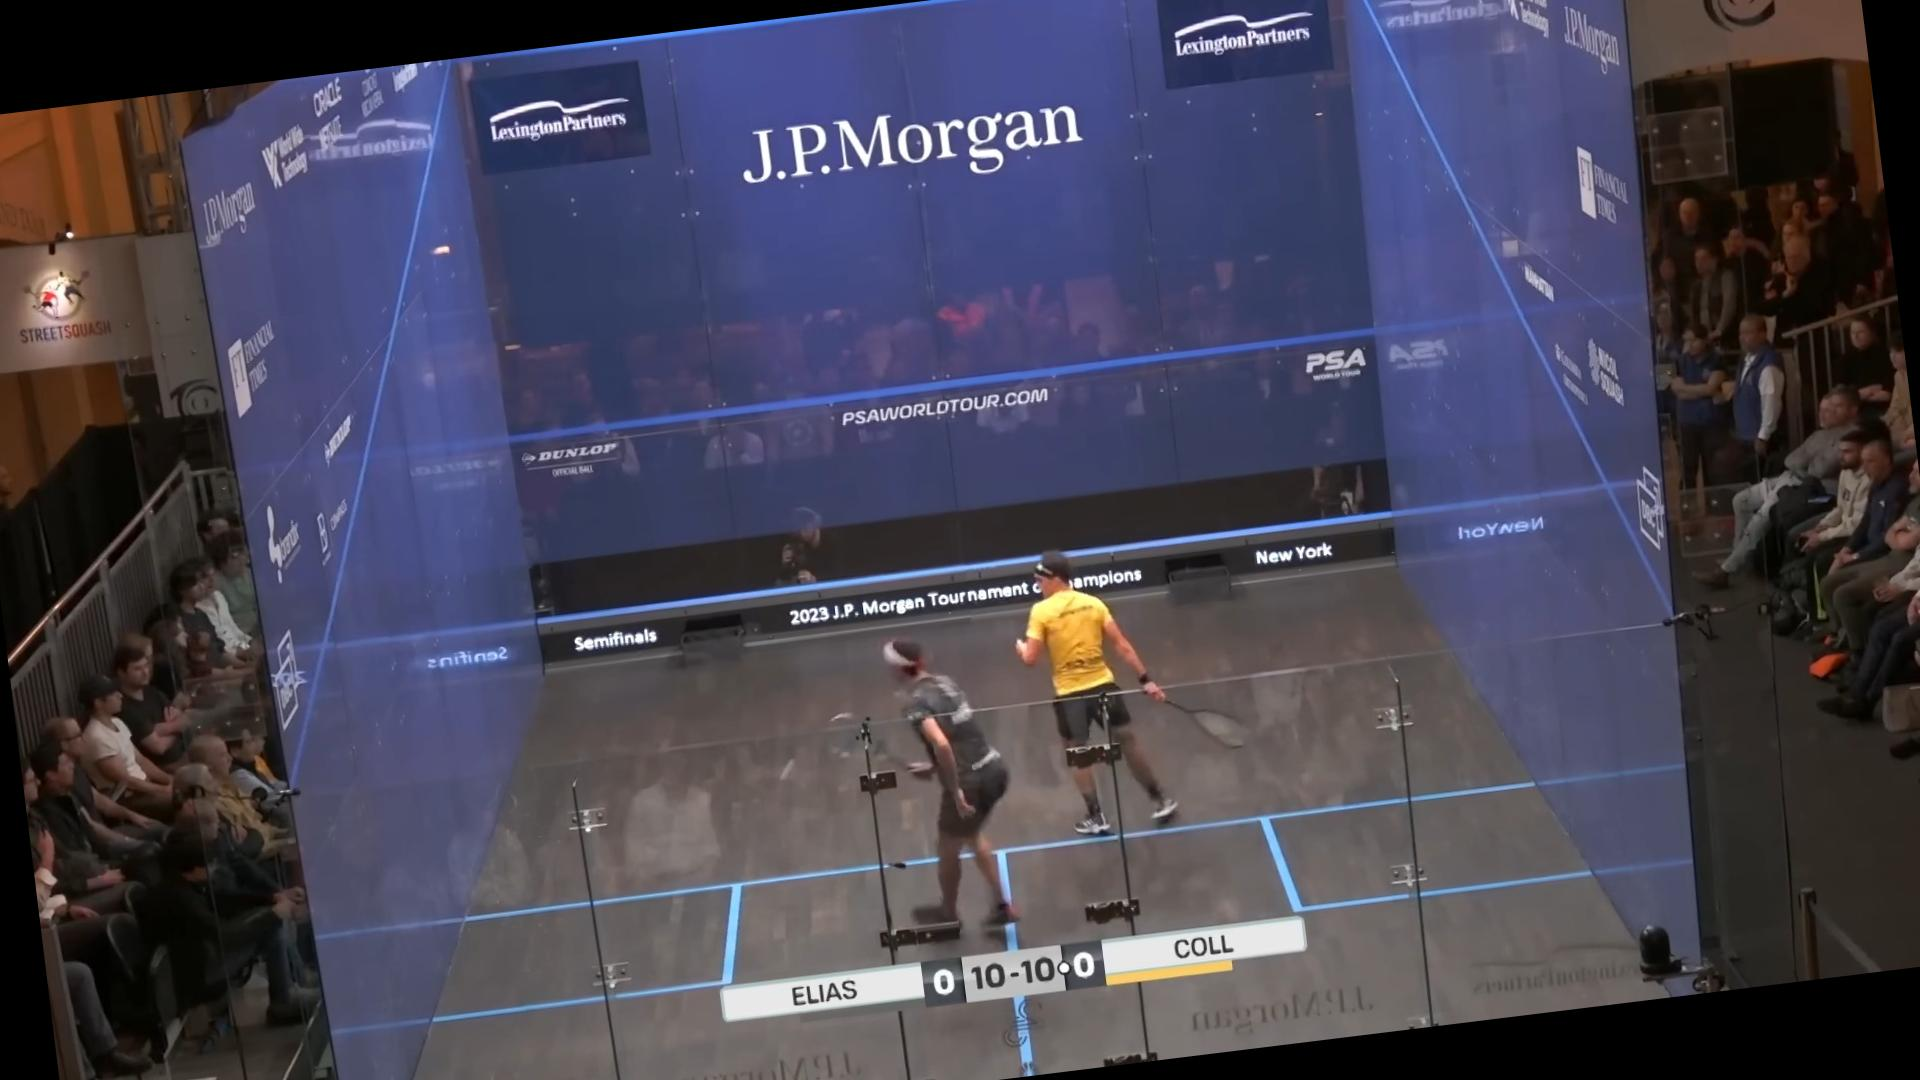Racket: (1159, 679, 1267, 765), (810, 699, 914, 773)
